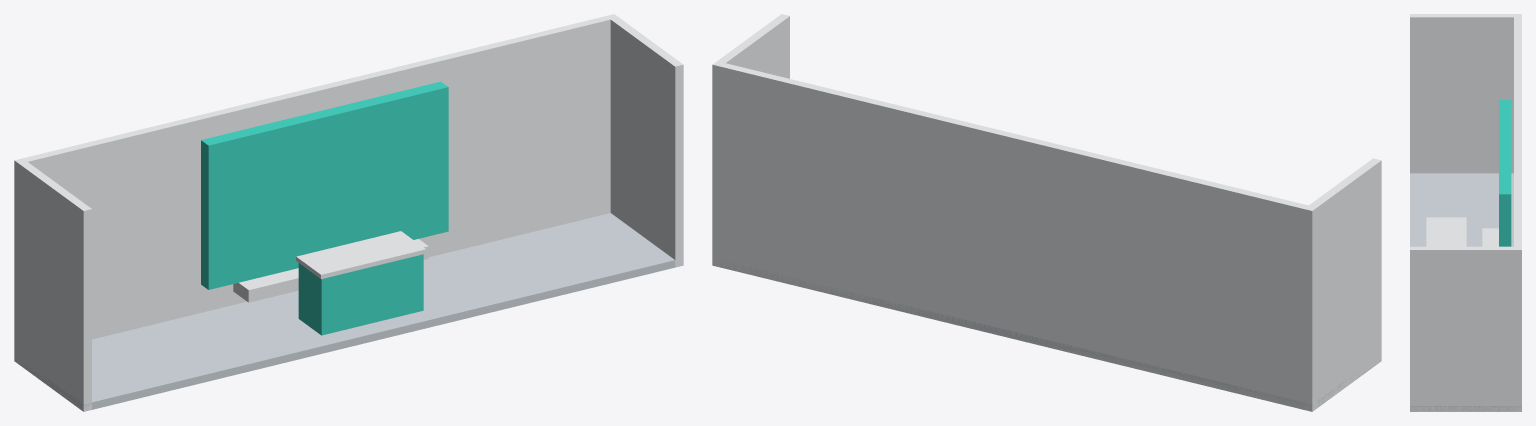
3 renders of one model, left to right at view 1: azimuth 30°, elevation 25°; view 2: azimuth 150°, elevation 25°; view 3: azimuth 270°, elevation 25°, orthographic. The views are drawn at different scales.
Visible parts, largest first — view 1: Exhibition Booth Concept; view 2: Exhibition Booth Concept; view 3: Exhibition Booth Concept.
Part boxes in pixels (left/top/right/bottom): Exhibition Booth Concept: left=14, top=14, right=683, bottom=411; Exhibition Booth Concept: left=712, top=14, right=1381, bottom=411; Exhibition Booth Concept: left=1410, top=14, right=1521, bottom=411.
Bounding box in the file's own units: 10 × 3.2 × 2.
